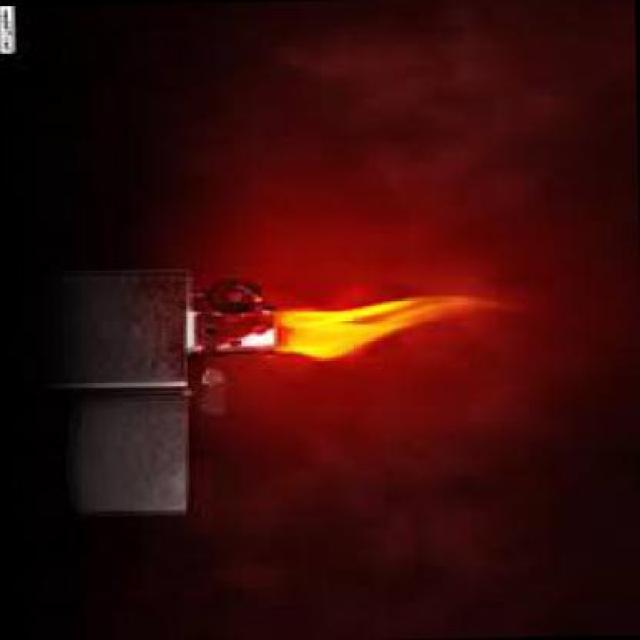Fire: (275, 288, 519, 363)
